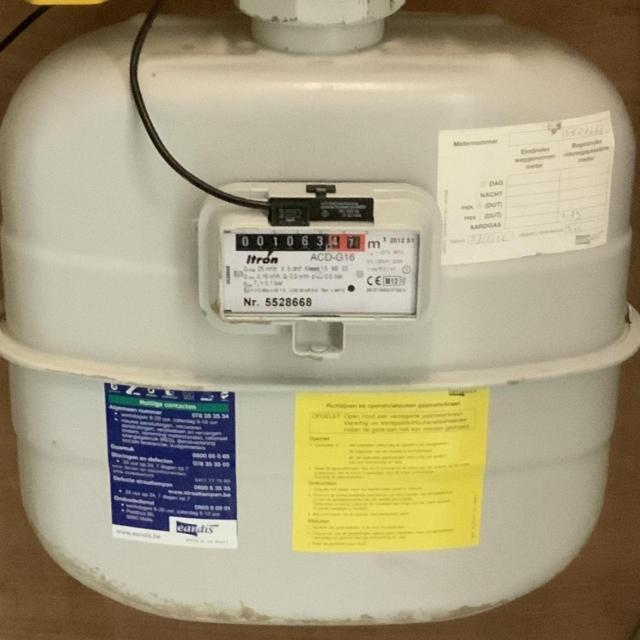gaz_meter: (219, 223, 416, 316)
indication: (235, 230, 368, 254)
